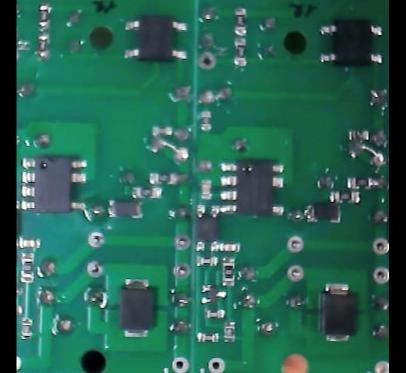chip-capacitor: (19, 236, 42, 249), (199, 179, 212, 200), (220, 242, 241, 252)
chip-resistor: (233, 37, 249, 68), (233, 5, 249, 35), (221, 256, 236, 287), (329, 190, 362, 204), (130, 185, 162, 199), (20, 253, 34, 283), (37, 3, 52, 31), (147, 172, 178, 185), (346, 176, 377, 189), (222, 320, 237, 343), (36, 34, 49, 60), (196, 255, 220, 267), (348, 128, 370, 141), (21, 317, 33, 340), (199, 111, 212, 132), (151, 125, 174, 136), (204, 308, 227, 319), (197, 331, 219, 342)
diode: (319, 281, 357, 343), (118, 276, 155, 337), (107, 197, 144, 219), (305, 203, 342, 224)
ic: (19, 154, 89, 213), (219, 157, 286, 217), (317, 18, 385, 67), (122, 16, 189, 63), (193, 204, 221, 252)
transistor: (199, 283, 228, 305)
